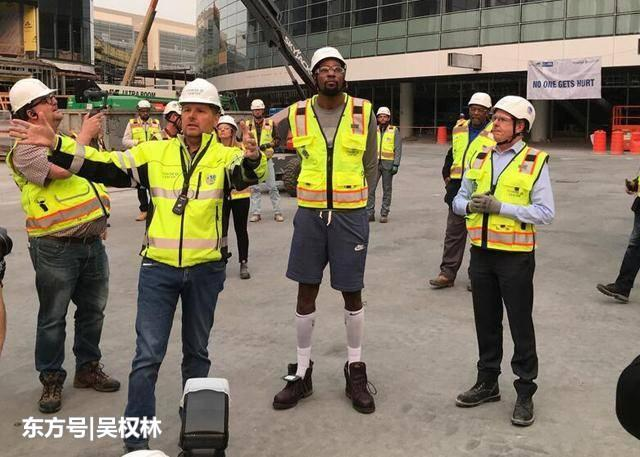helmet: (9, 80, 59, 118), (181, 80, 224, 108), (491, 98, 536, 124), (311, 46, 348, 72), (468, 94, 493, 111), (217, 116, 239, 135), (167, 104, 183, 118), (377, 106, 395, 118), (251, 101, 266, 112), (139, 102, 152, 112)
